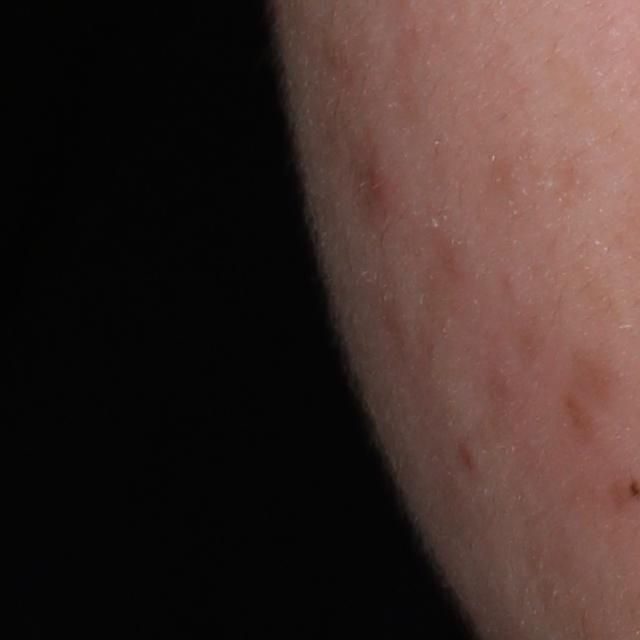papule: (364, 164, 388, 203)
